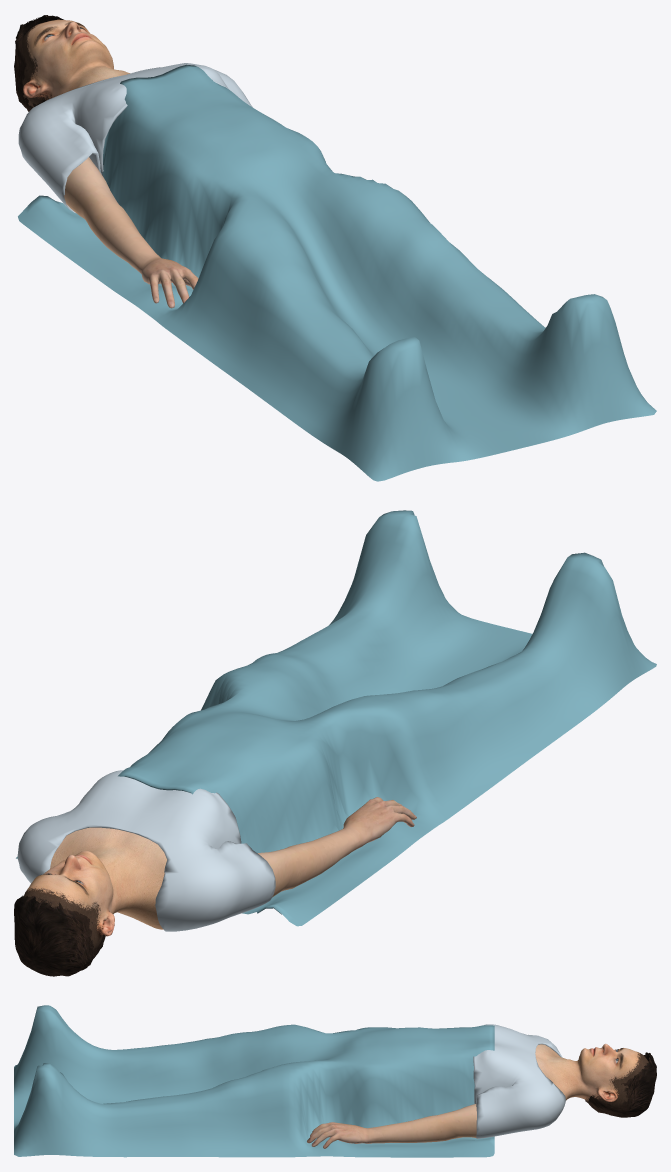
3 renders of one model, top to bottom at view 1: azimuth 30°, elevation 25°; view 2: azimuth 150°, elevation 25°; view 3: azimuth 270°, elevation 25°, orthographic. The views are drawn at different scales.
Visible parts, largest first — view 1: sheet, gown, arms, body, hair; view 2: sheet, gown, body, hair, arms; view 3: sheet, gown, body, arms, hair.
Boxes of the visible parts, x1=… form: sheet: x1=18, y1=64, x2=656, y2=481; gown: x1=18, y1=63, x2=252, y2=212; arms: x1=64, y1=157, x2=198, y2=308; body: x1=21, y1=19, x2=129, y2=107; hair: x1=14, y1=15, x2=63, y2=111; sheet: x1=16, y1=510, x2=656, y2=926; gown: x1=17, y1=770, x2=275, y2=931; body: x1=24, y1=827, x2=166, y2=951; hair: x1=14, y1=895, x2=105, y2=976; arms: x1=258, y1=797, x2=416, y2=897; sheet: x1=14, y1=1005, x2=494, y2=1157; gown: x1=473, y1=1024, x2=565, y2=1138; body: x1=535, y1=1043, x2=648, y2=1108; arms: x1=307, y1=1104, x2=476, y2=1148; hair: x1=585, y1=1052, x2=656, y2=1117.
Bounding box in the file's own units: 0.6435 × 0.2463 × 1.9.
8 materials, 6 textured.
